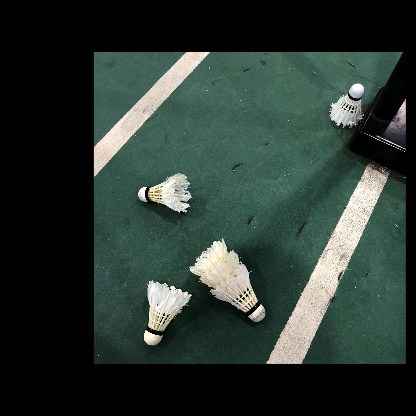ball_single: (189, 238, 265, 322), (144, 280, 192, 345), (138, 173, 192, 212), (330, 83, 364, 129)
